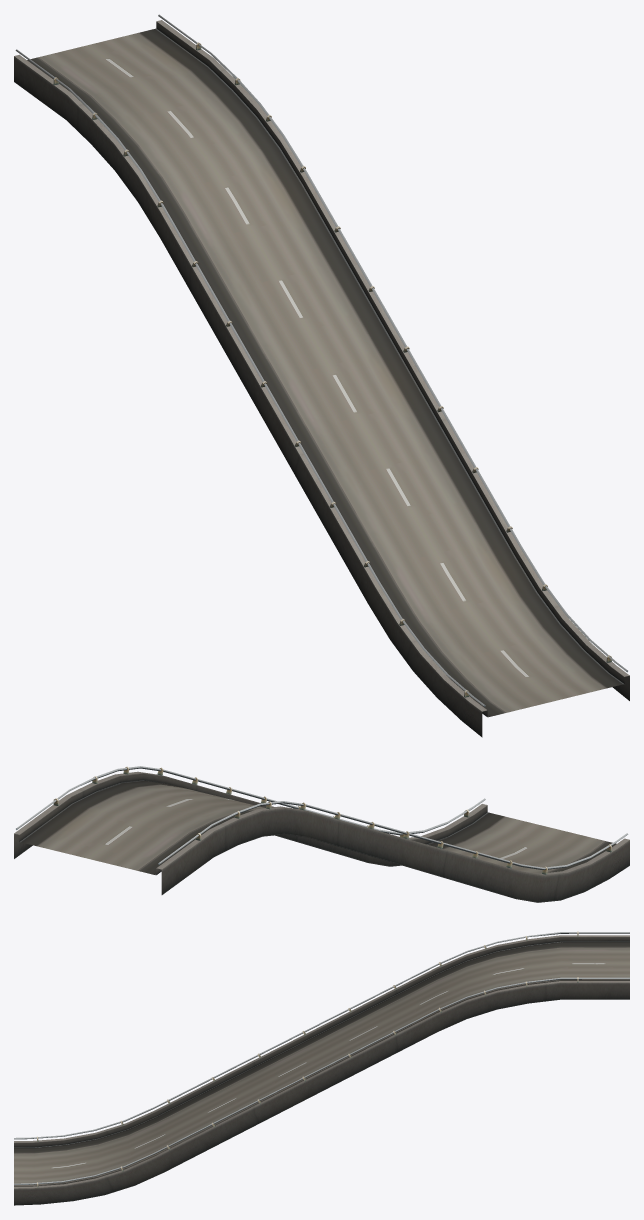
File: Track2.FBX
3 renders of one model, top to bottom at view 1: azimuth 30°, elevation 25°; view 2: azimuth 150°, elevation 25°; view 3: azimuth 270°, elevation 25°, orthographic. The views are drawn at different scales.
Visible parts, largest first — view 1: Road; view 2: Road; view 3: Road.
Boxes of the visible parts, box(x1,y1,x2,y2) form: Road: box(14, 14, 629, 737); Road: box(14, 766, 629, 902); Road: box(14, 931, 629, 1205).
Bounding box in the file's own units: 425 × 951 × 2333.
Materials: 1 (1 with a texture image).
